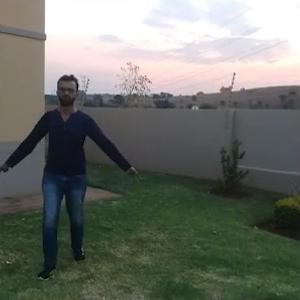land: (4, 71, 139, 262)
